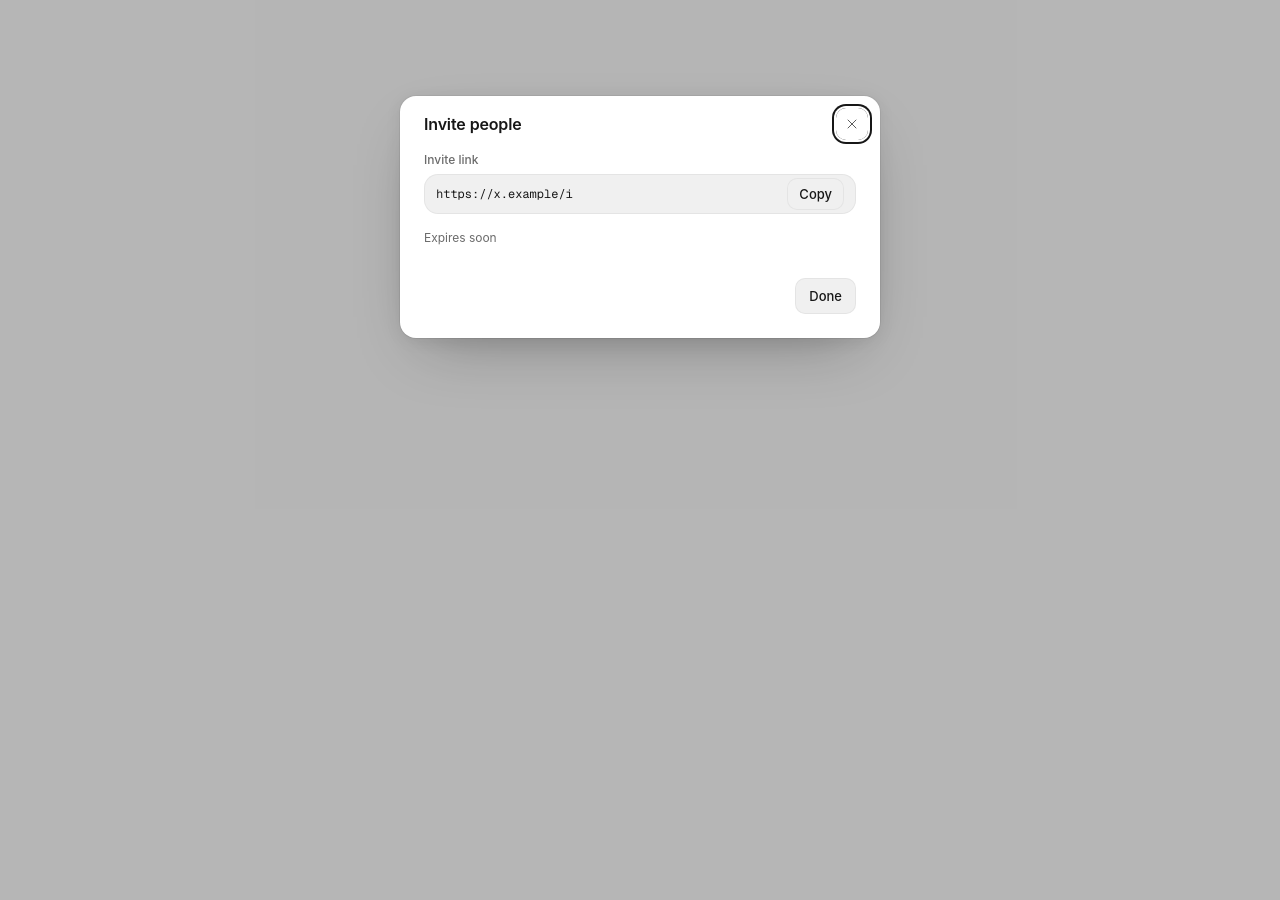
InviteDialog › surfaces a clipboard failure instead of claiming it copied
This screenshot has width=1280, height=900.
Click the button "Copy": (816, 194) [787,178,844,210]
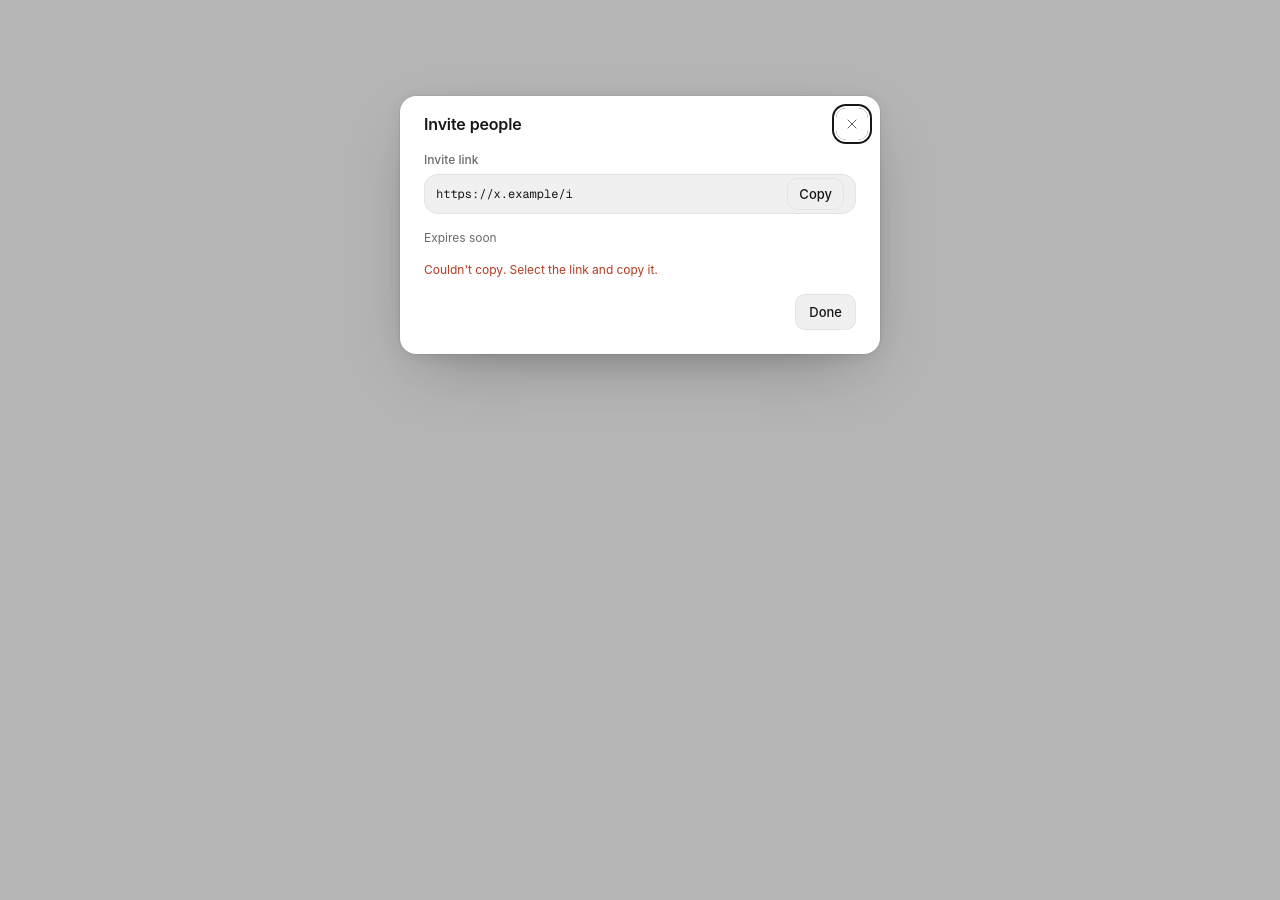
Check: the text "Couldn't copy. Select the link and copy it." is shown, box [424,262,658,277]
